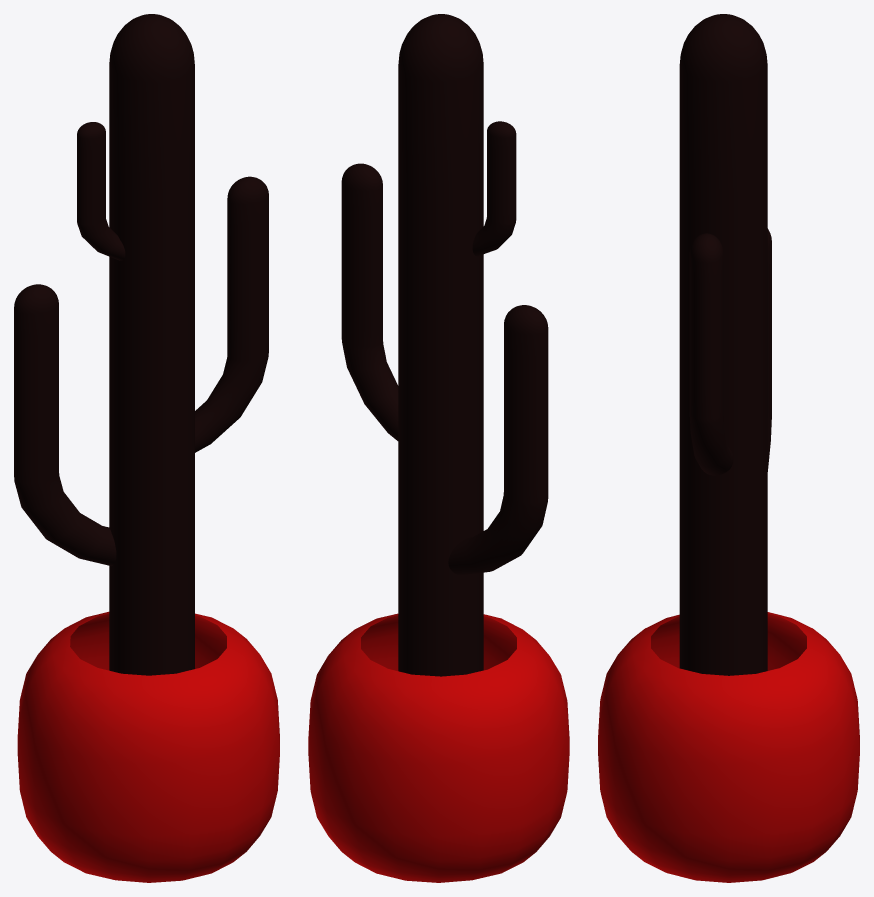
The model's file is SM_Cactus.fbx.
The picture shows the model from 3 angles, left to right: view 1: azimuth 30°, elevation 25°; view 2: azimuth 150°, elevation 25°; view 3: azimuth 270°, elevation 25°; orthographic projection.
Visible parts, largest first — view 1: Cactus; view 2: Cactus; view 3: Cactus.
Boxes of the visible parts, x1,y1,x2,y2 form: Cactus: [14, 14, 279, 882]; Cactus: [308, 14, 569, 882]; Cactus: [598, 14, 859, 882].
Bounding box in the file's own units: 11.39 × 38.48 × 10.98.
